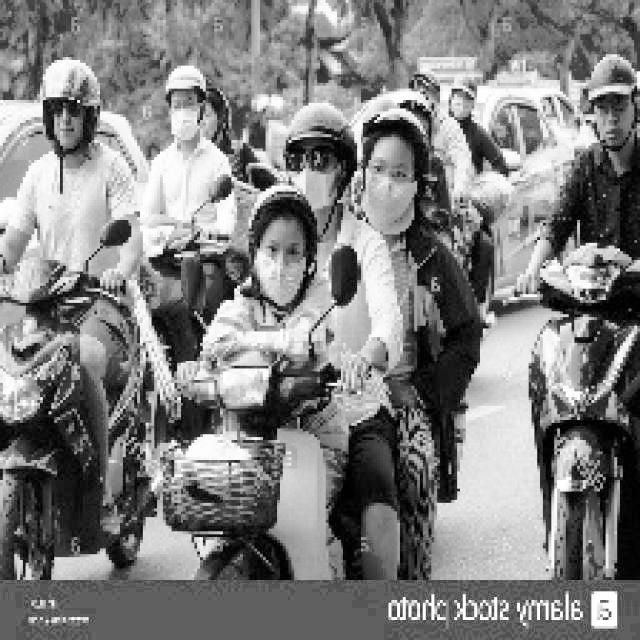Bike: (5, 262, 153, 614), (512, 245, 635, 577), (212, 315, 340, 589)
